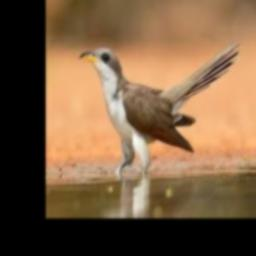Cuckoo: (79, 40, 239, 175)
